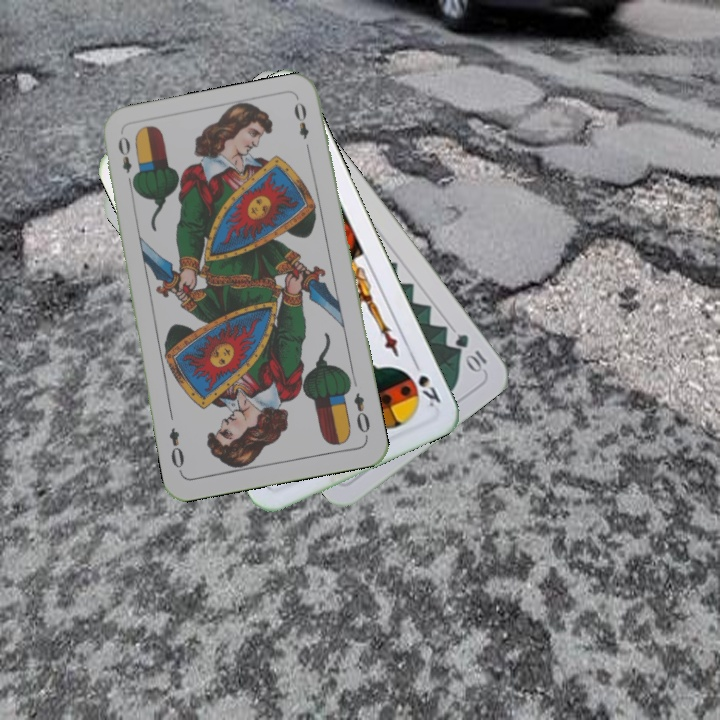EO: (114, 132, 139, 190), (350, 389, 373, 440)
G10: (451, 329, 490, 376)
SK: (408, 355, 444, 410)
